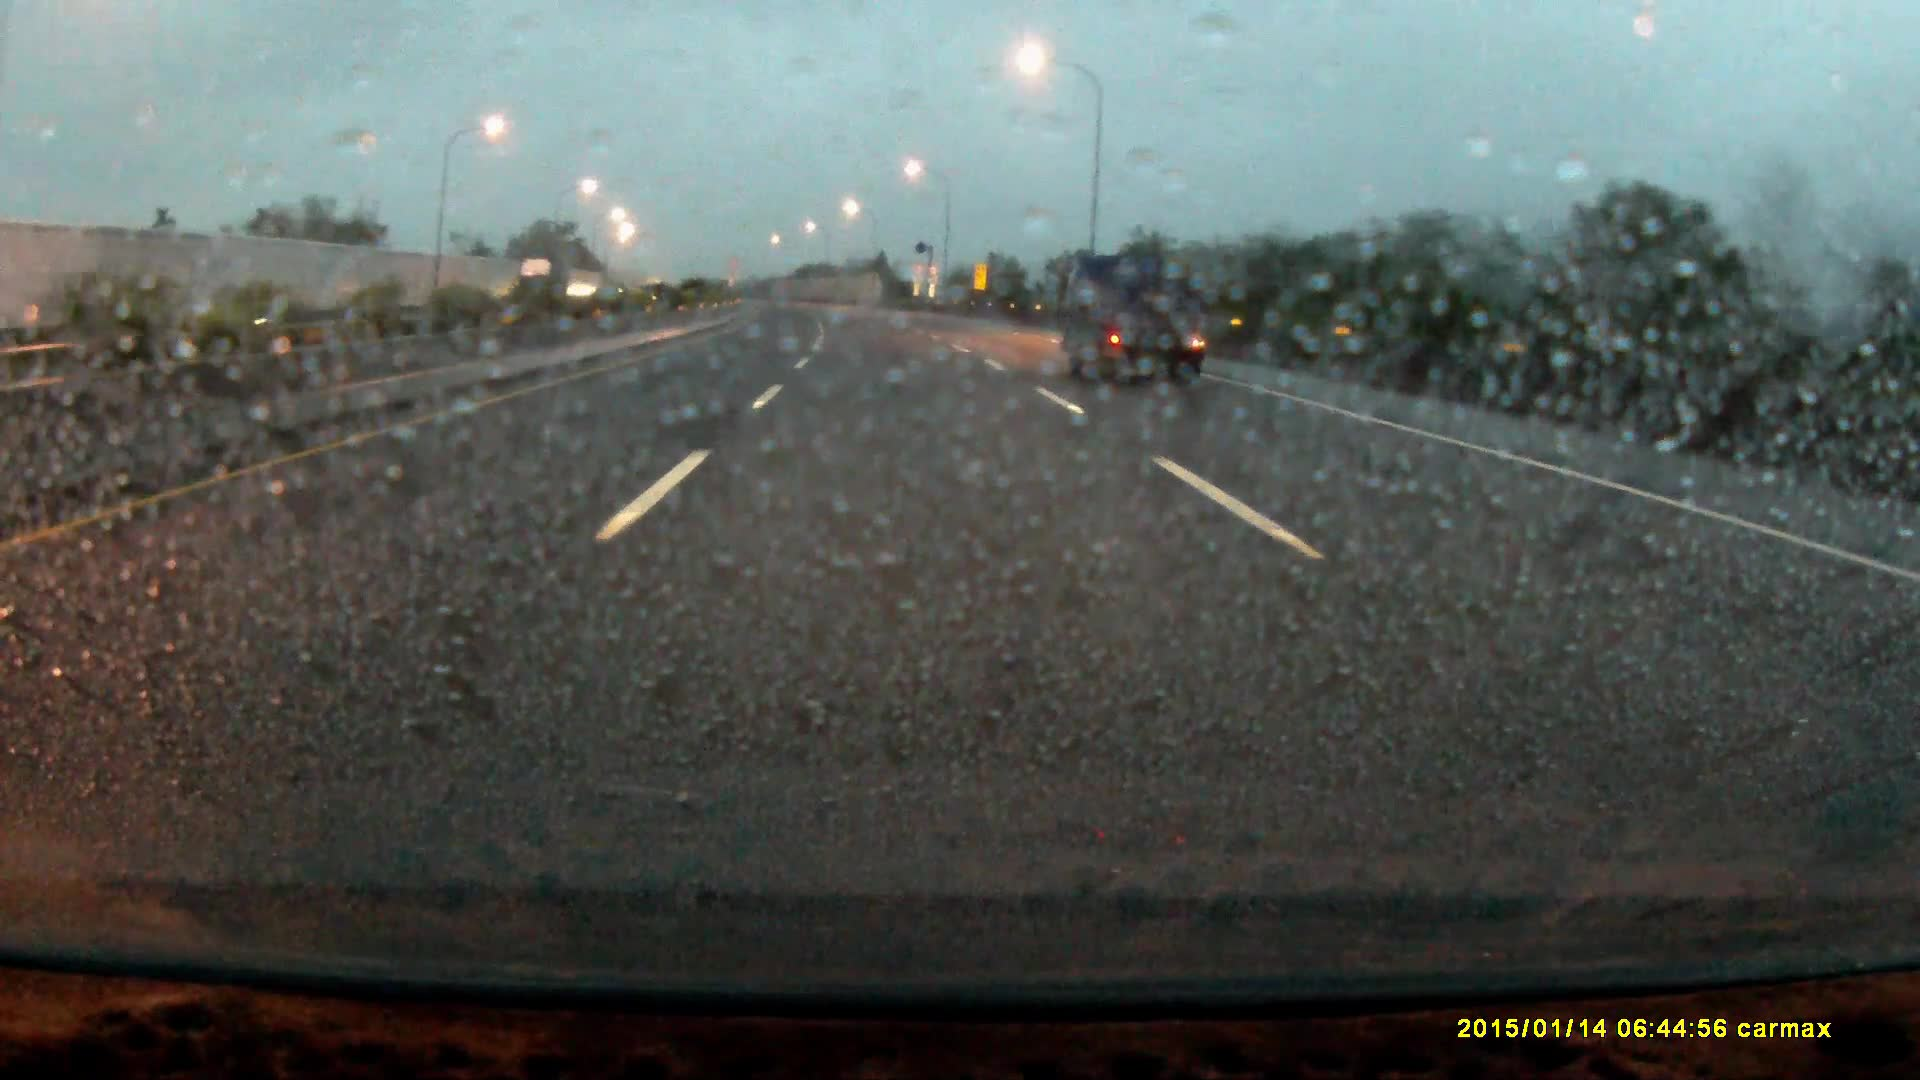vehicle: (1060, 253, 1207, 398), (518, 257, 568, 322)
